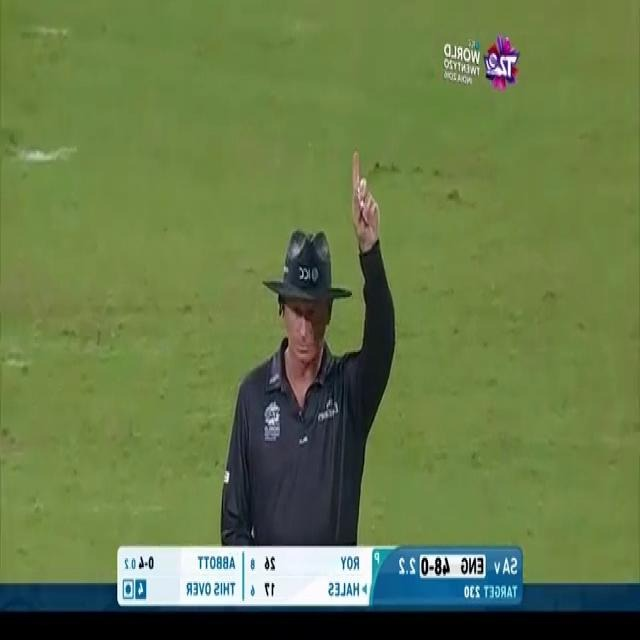Out: (215, 143, 400, 537)
